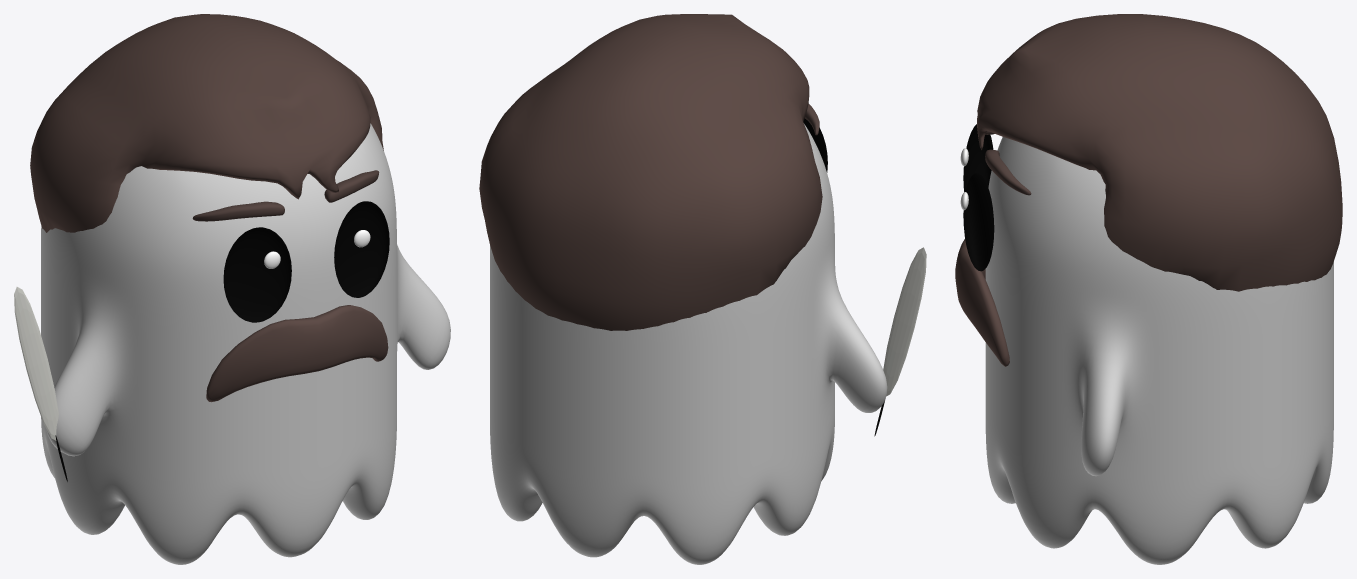
File: FantomaMihaiEminescu.fbx
3 renders of one model, left to right at view 1: azimuth 30°, elevation 25°; view 2: azimuth 150°, elevation 25°; view 3: azimuth 270°, elevation 25°, orthographic. The views are drawn at different scales.
Parts seen in each view (by area): view 1: Cube, Hair, Sphere, Mustache, Pana, Brow_R, Brow_L; view 2: Hair, Cube, Pana; view 3: Cube, Hair, Sphere, Mustache, Brow_L.
Part boxes in pixels (x1,y1,x2,y2): Cube: [41, 123, 450, 564]; Hair: [30, 14, 383, 232]; Sphere: [223, 201, 389, 322]; Mustache: [206, 305, 388, 402]; Pana: [14, 287, 58, 440]; Brow_R: [192, 201, 284, 221]; Brow_L: [324, 170, 379, 202]; Hair: [479, 14, 822, 330]; Cube: [490, 124, 887, 564]; Pana: [883, 247, 926, 396]; Cube: [985, 137, 1333, 564]; Hair: [977, 14, 1342, 291]; Sphere: [960, 124, 994, 271]; Mustache: [955, 239, 1009, 366]; Brow_L: [985, 149, 1031, 195].
Bounding box in the file's own units: 243 × 249 × 186.
